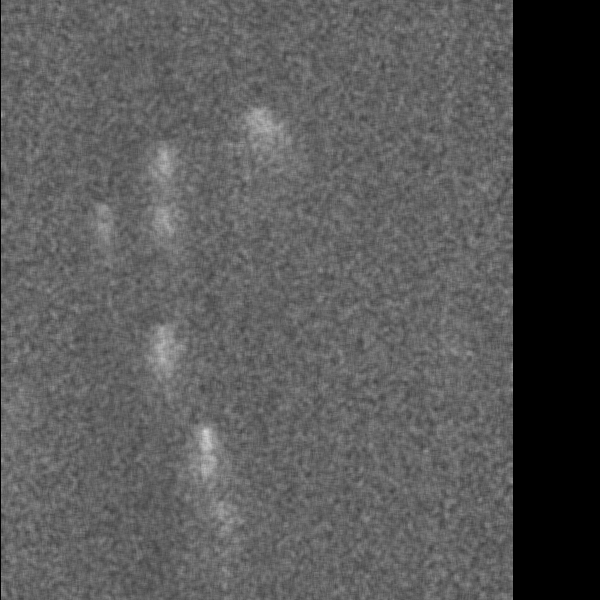spark: (247, 102, 290, 179), (191, 422, 214, 524), (147, 323, 173, 386), (90, 199, 114, 260), (152, 143, 176, 193), (150, 200, 174, 235), (211, 496, 231, 538)
